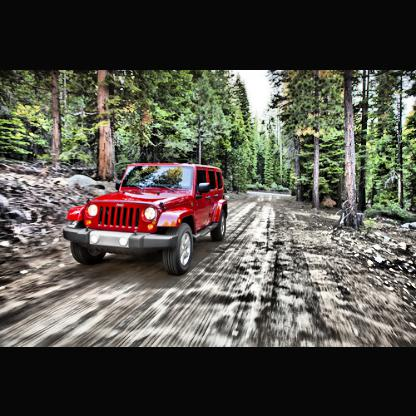Jeep Wrangler SUV 2012: (62, 158, 235, 283)
